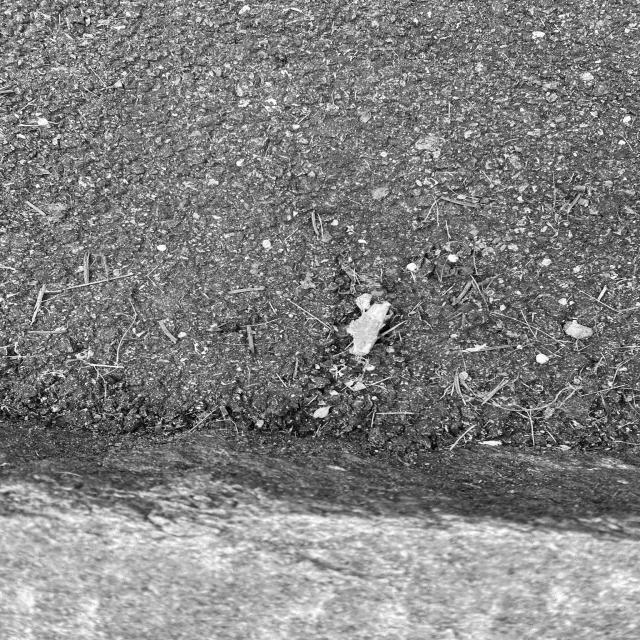other waste: (346, 293, 392, 356)
